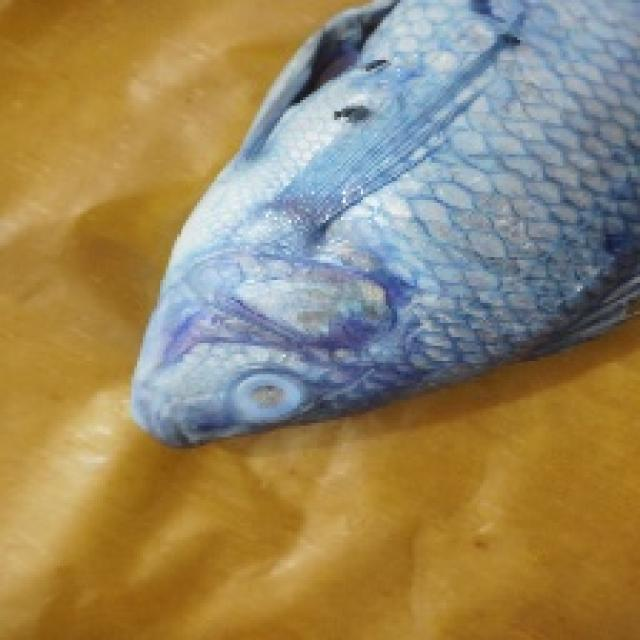Non-Fresh: (168, 18, 636, 434), (218, 354, 328, 434)
